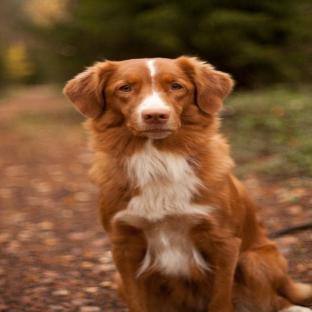Animal: (65, 57, 311, 312)
